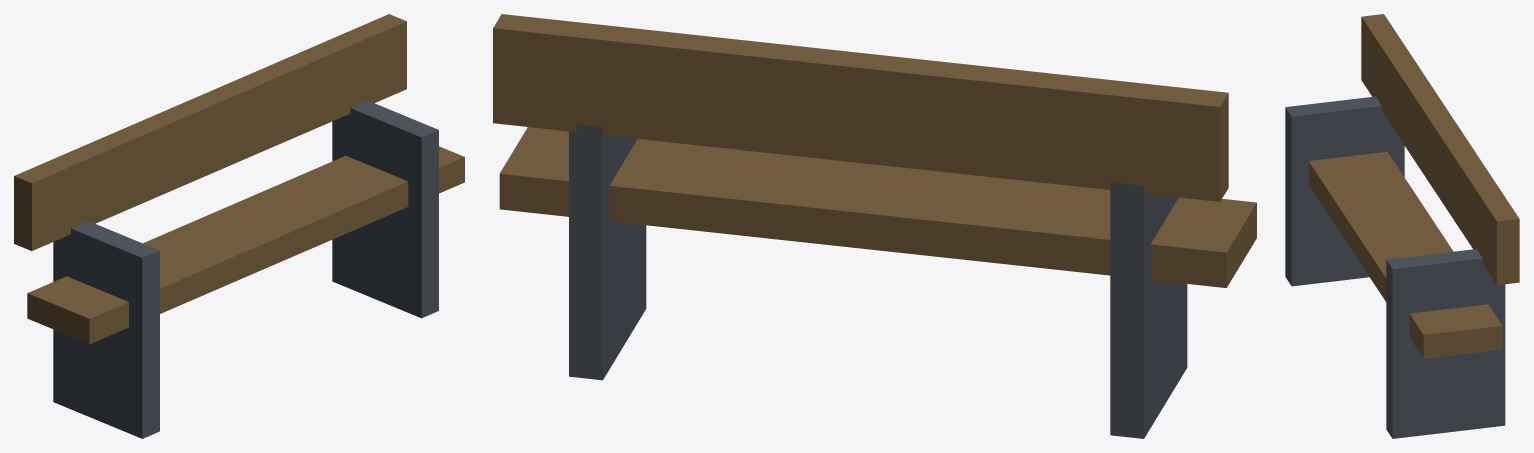
File: cell--540_90.glb
The picture shows the model from 3 angles, left to right: view 1: azimuth 30°, elevation 25°; view 2: azimuth 150°, elevation 25°; view 3: azimuth 270°, elevation 25°; orthographic projection. The views are drawn at different scales.
Parts seen in each view (by area): view 1: cell--540_90; view 2: cell--540_90; view 3: cell--540_90.
Part boxes in pixels (box(x1,y1,x2,y2)): cell--540_90: box(14, 14, 464, 438); cell--540_90: box(493, 14, 1256, 438); cell--540_90: box(1285, 14, 1519, 438).
Size of the model in its own units: 0.874 by 0.43 by 0.3999.
